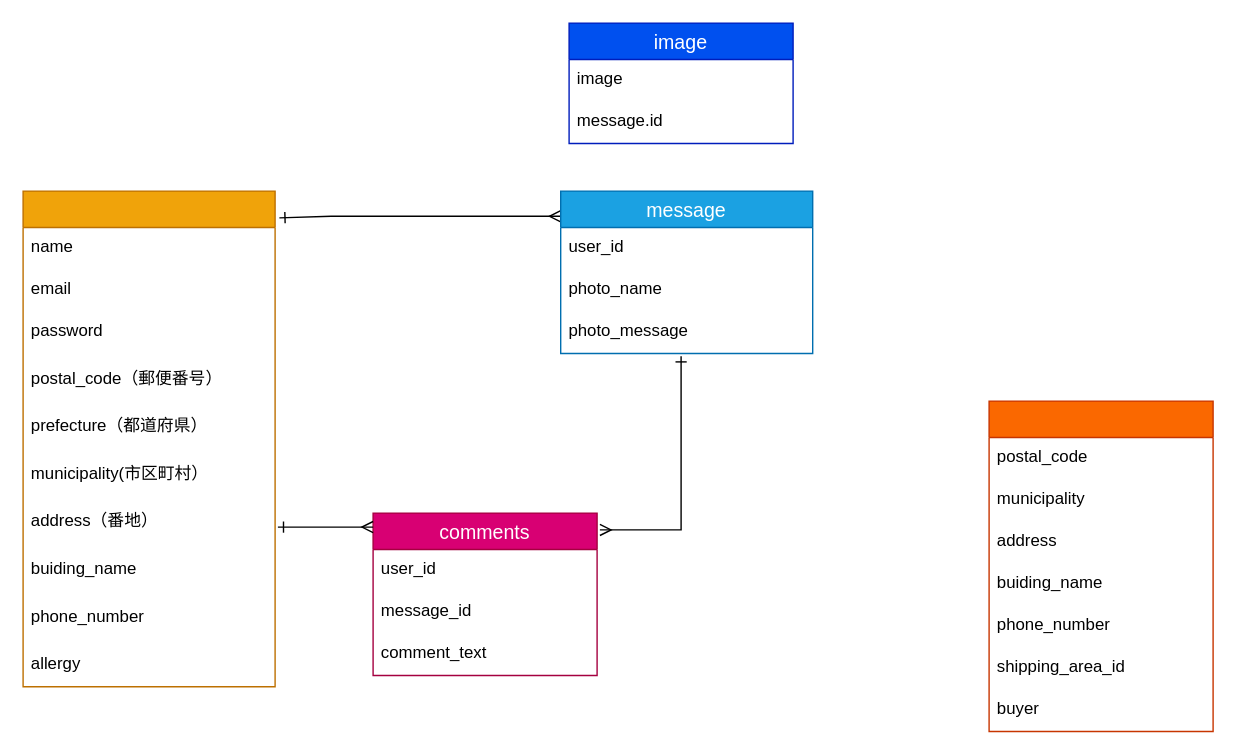
The diagram is 1236 pixels wide and 755 high, and some of its shapes have lost their labels. Here are the shapes that lost their labels. From the top down, the box of each, then its label:
(22, 190, 275, 687): user
(988, 400, 1213, 732): addresses
